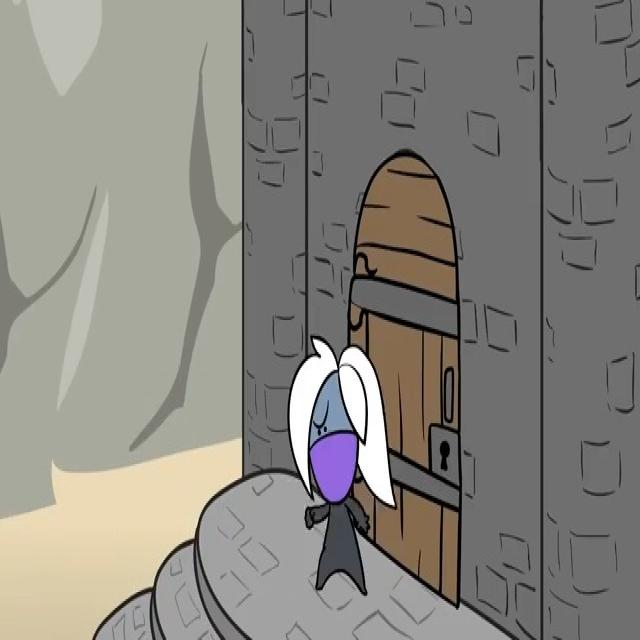miss Demeanor: (287, 335, 398, 596)
